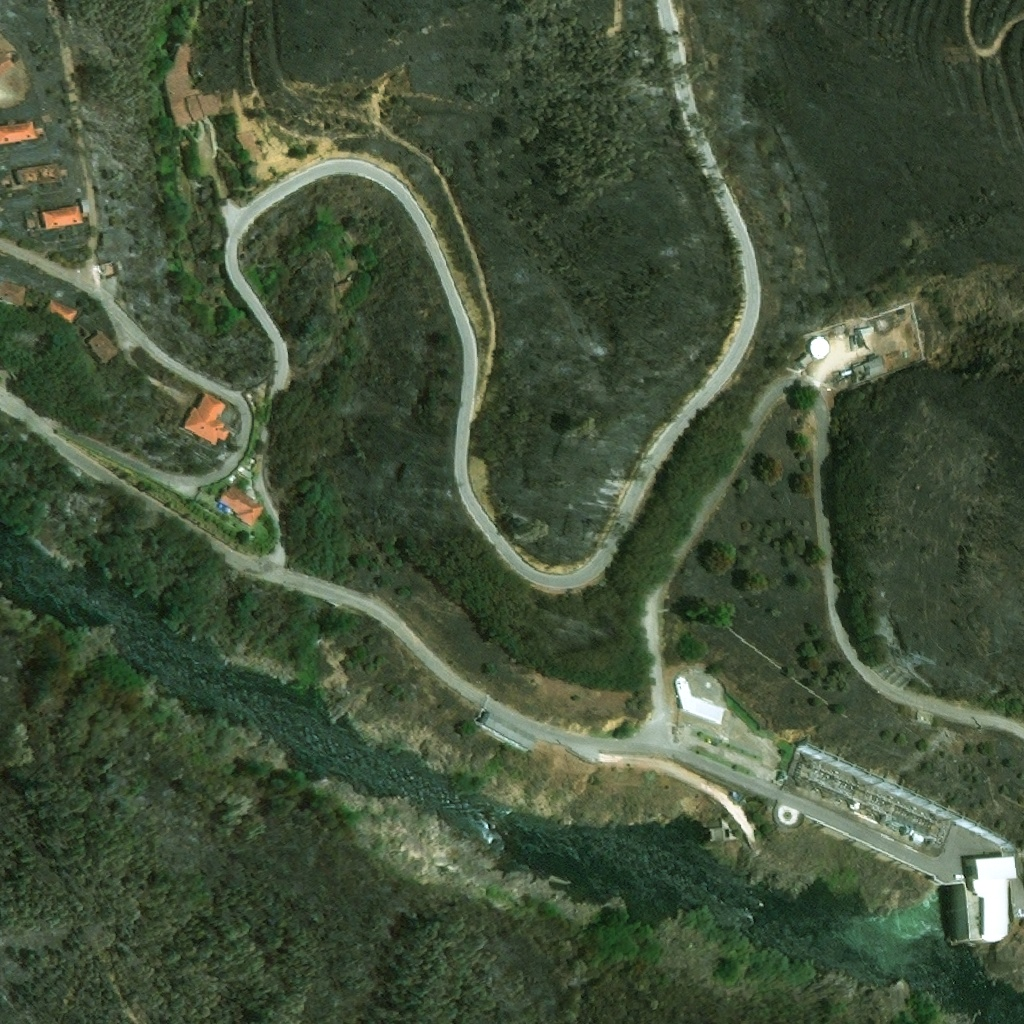0 no-damage: (163, 46, 221, 129), (972, 856, 1017, 945), (181, 392, 232, 444), (217, 481, 265, 529), (676, 678, 726, 724), (841, 328, 878, 361), (16, 161, 68, 184), (42, 202, 85, 228), (89, 329, 119, 365), (45, 297, 80, 324), (0, 120, 39, 143), (234, 132, 260, 158), (0, 279, 27, 304), (0, 46, 20, 78), (809, 337, 829, 362), (861, 360, 883, 381)
3 destroyed: (99, 260, 122, 278)
